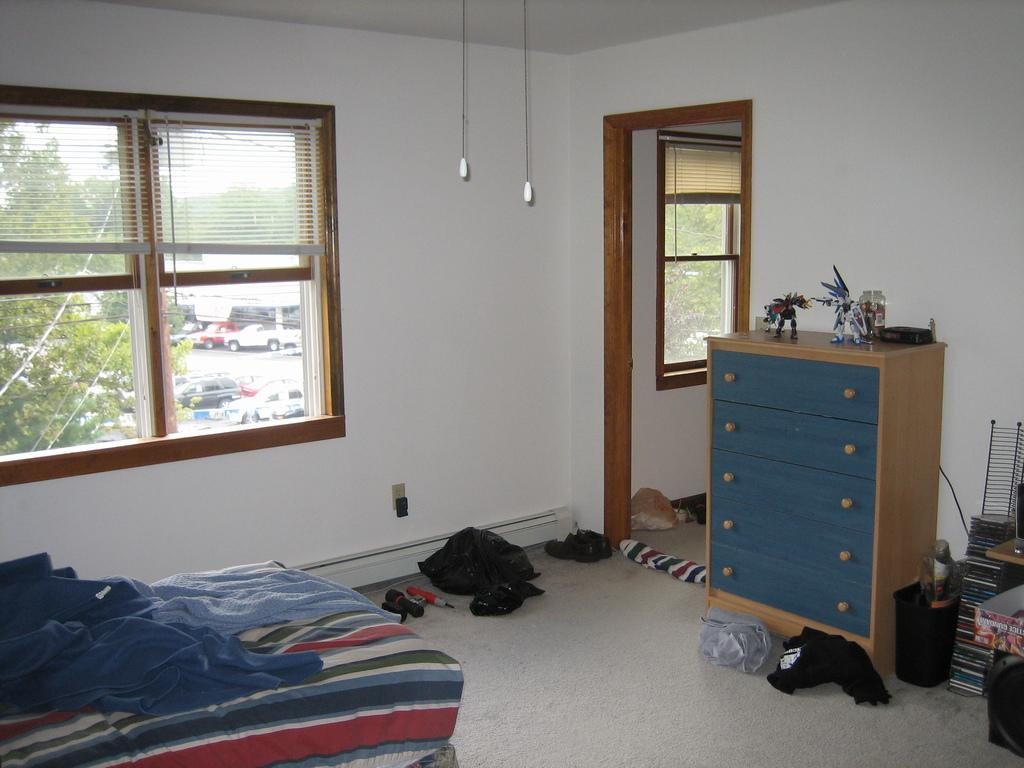cabinet_door: (715, 550, 867, 636), (716, 396, 866, 470), (713, 500, 868, 568), (714, 456, 872, 514), (718, 360, 866, 414)
handle: (836, 542, 855, 570), (718, 366, 738, 392), (844, 382, 862, 410), (838, 493, 856, 518), (845, 438, 861, 464), (720, 416, 738, 439), (719, 466, 737, 488), (722, 562, 738, 584), (839, 594, 852, 618), (724, 514, 738, 534)
